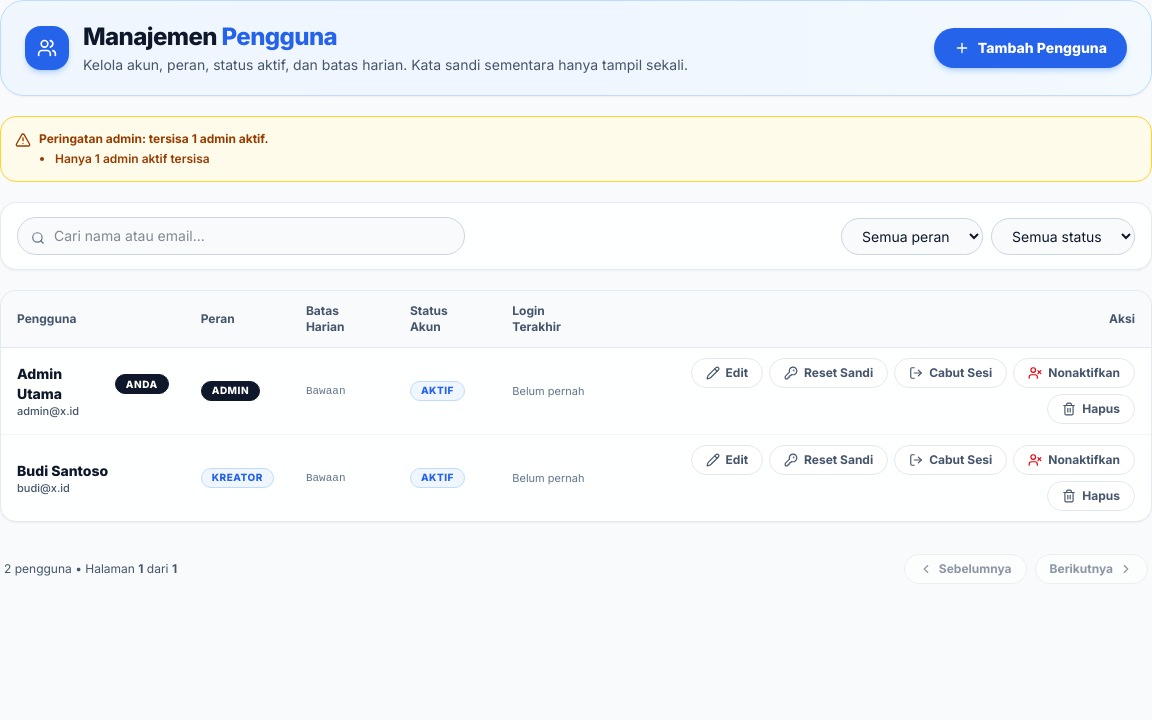
Scenario: AdminUsers › maps LAST_ADMIN when deactivating the last active admin
What coordinates should you click on to do the following:
click the button with aria-label "Nonaktifkan Admin Utama"
I would click on:
 (1074, 373)
Its box is top-left (1013, 358), bottom-right (1135, 388).
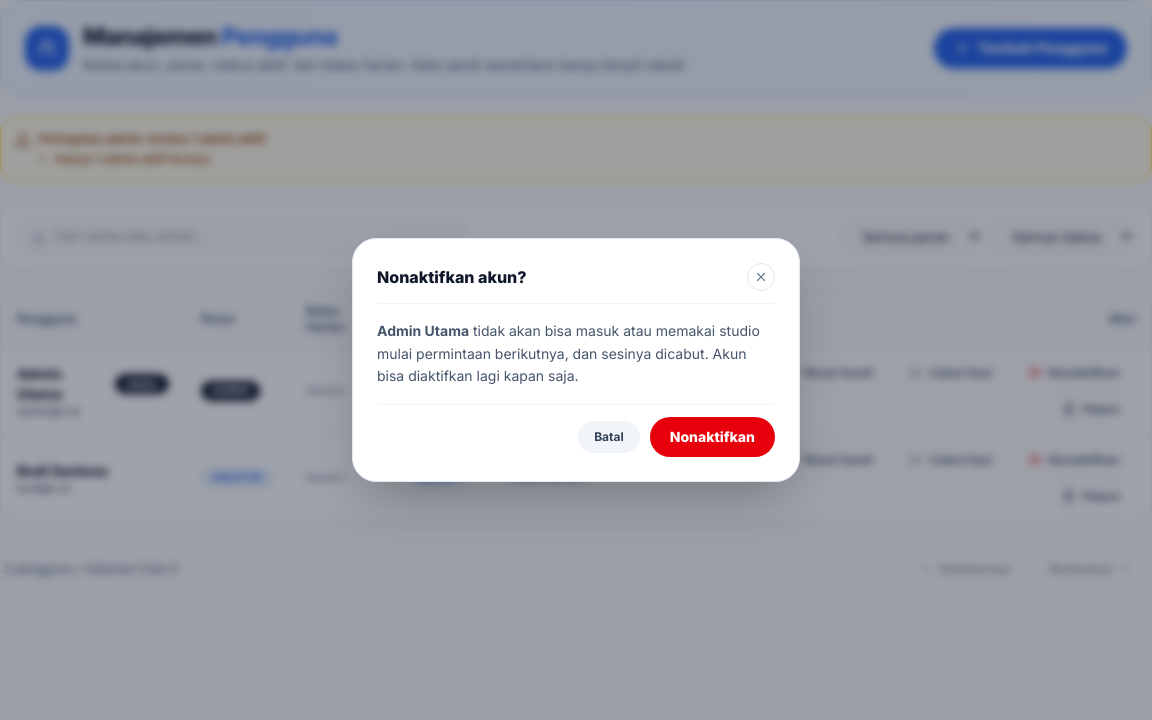
What coordinates should you click on to do the following:
click the button "Nonaktifkan"
I would click on:
 (712, 437)
Its box is top-left (650, 417), bottom-right (775, 457).
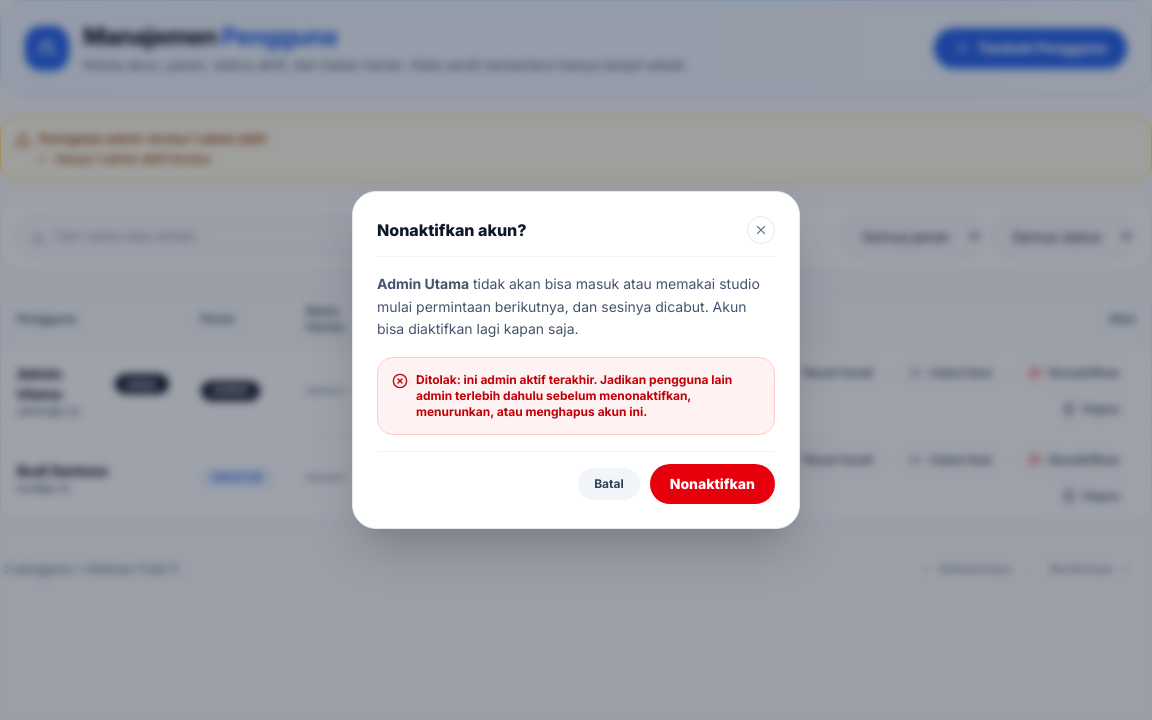
Expected: the message shows "admin aktif terakhir", top-left (416, 372), bottom-right (732, 419)
